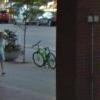Bicycle: (28, 39, 57, 70)
